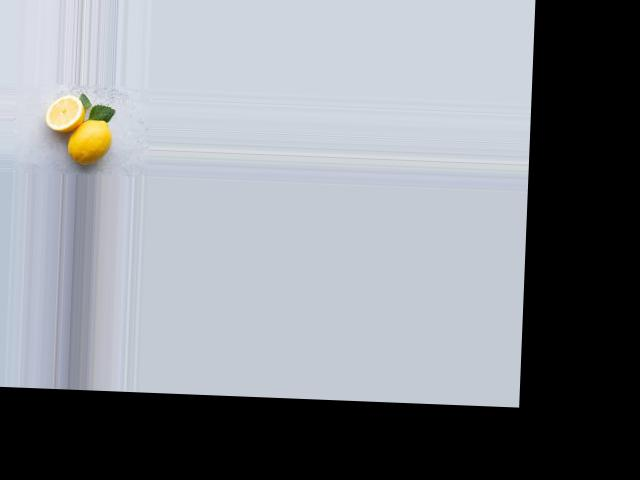lemon: (67, 115, 116, 166)
